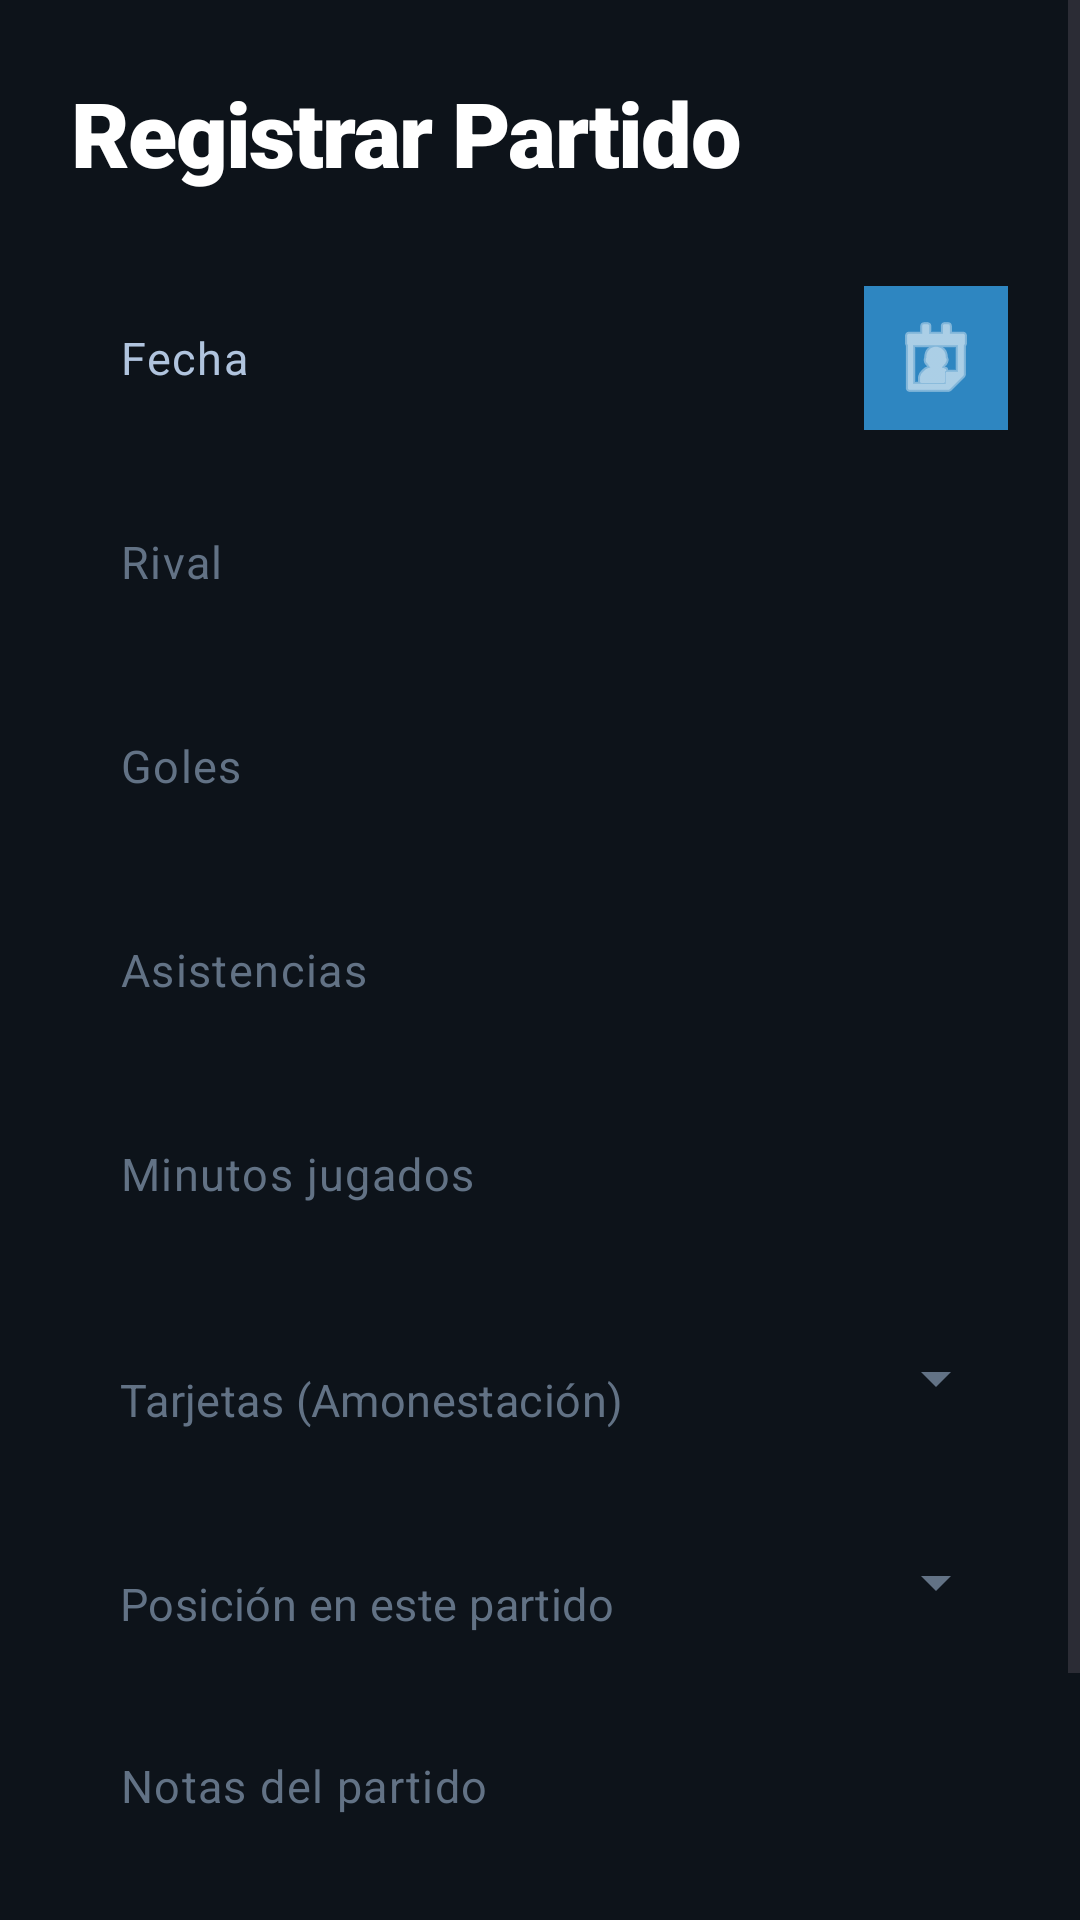

Icons on this 1080x1920 Android screen, each with its box as [x1, y1, x2, y2]:
calendar: [864, 286, 1008, 430]
